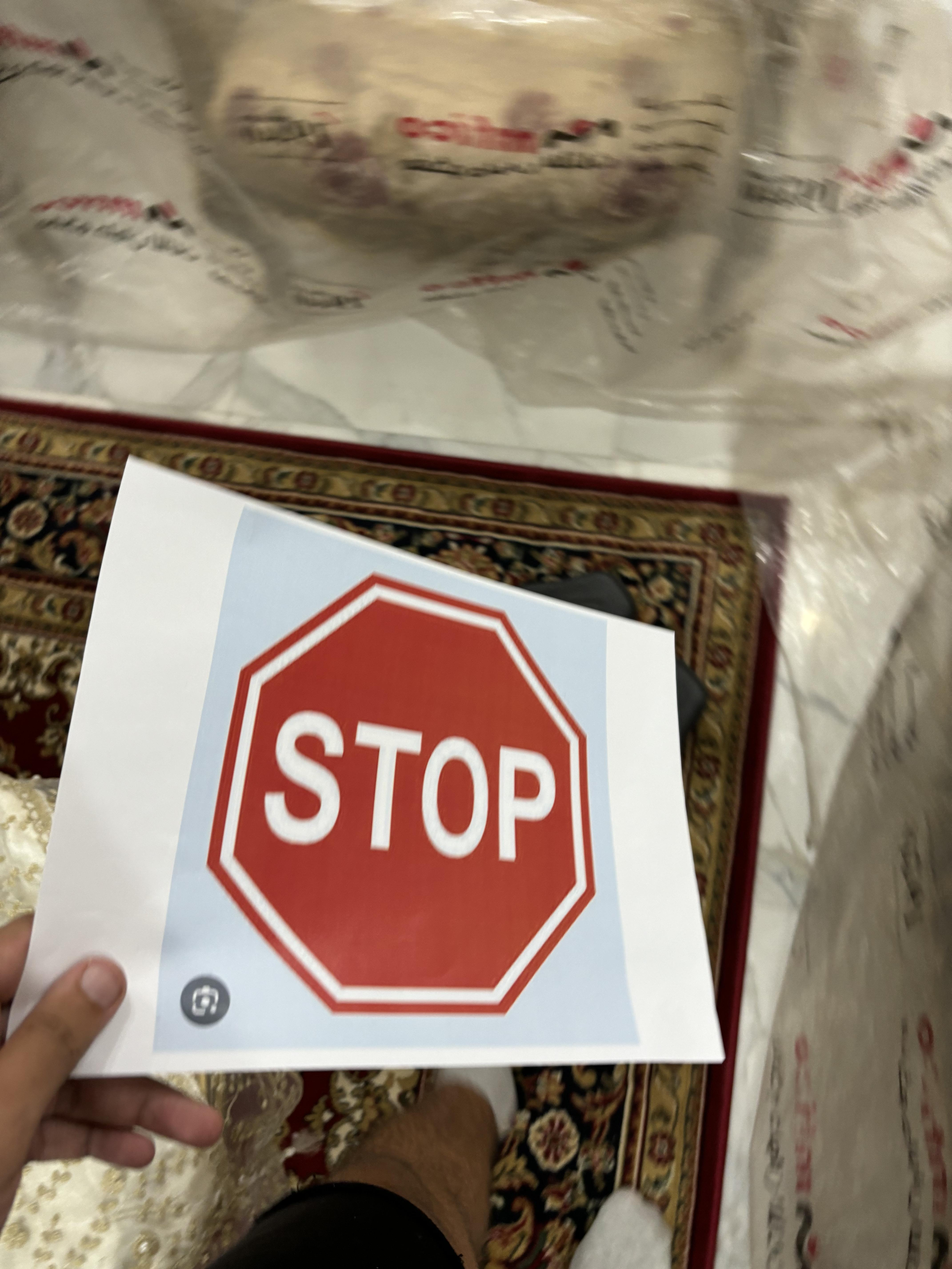Stop: (202, 576, 605, 1027)
